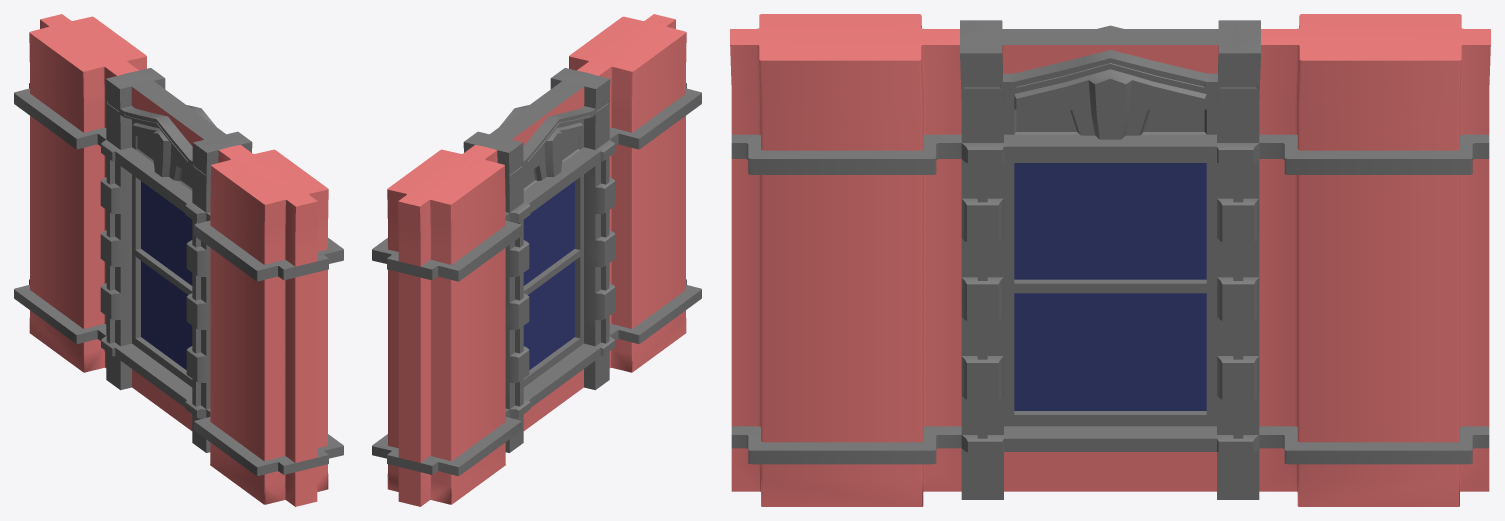
The model's file is WindowLondonGeorgian1st.fbx.
3 renders of one model, left to right at view 1: azimuth 30°, elevation 25°; view 2: azimuth 150°, elevation 25°; view 3: azimuth 270°, elevation 25°, orthographic. The views are drawn at different scales.
Visible parts, largest first — view 1: DoorTest; view 2: DoorTest; view 3: DoorTest.
Boxes of the visible parts, box(x1,y1,x2,y2) form: DoorTest: box(14, 14, 343, 506); DoorTest: box(372, 14, 701, 506); DoorTest: box(730, 14, 1490, 506).
Bounding box in the file's own units: 0.9916 × 3.26 × 5.02.
